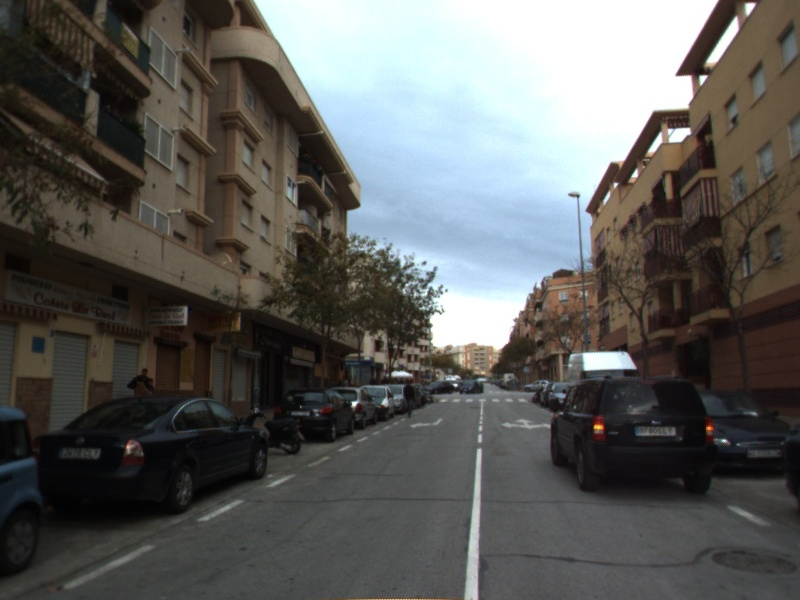STRAIGHT_LEFT_RIGHT: (499, 416, 552, 431)
